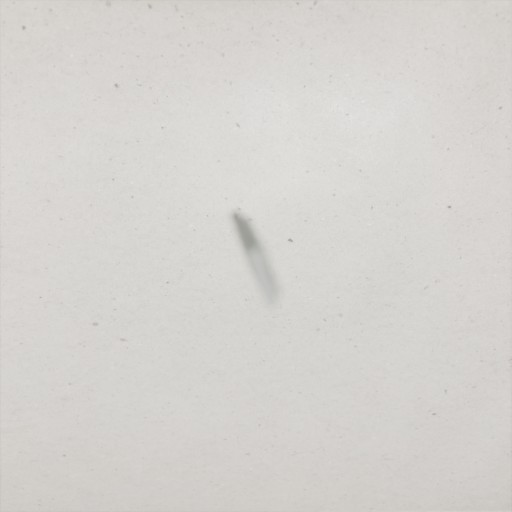lego: (228, 209, 282, 310)
